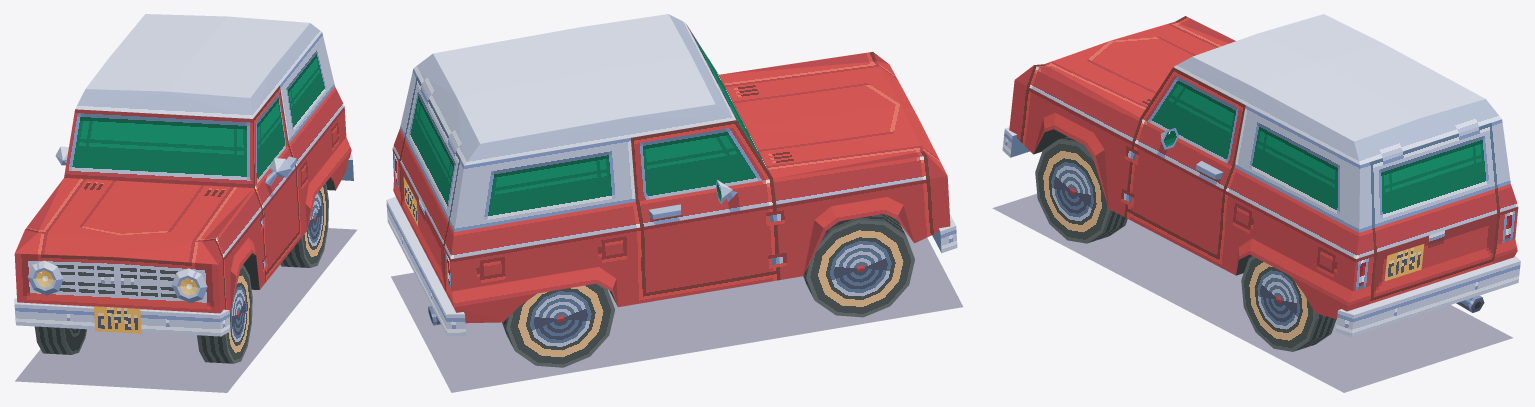
File: Low_Poly_SUV.glb
The picture shows the model from 3 angles, left to right: view 1: azimuth 30°, elevation 25°; view 2: azimuth 150°, elevation 25°; view 3: azimuth 270°, elevation 25°; orthographic projection. The views are drawn at different scales.
Visible parts, largest first — view 1: Bronco_0, Shadow_0; view 2: Bronco_0, Shadow_0; view 3: Bronco_0, Shadow_0.
Part boxes in pixels (x1,y1,x2,y2): Bronco_0: (14, 14, 353, 363); Shadow_0: (15, 228, 357, 392); Bronco_0: (386, 14, 957, 367); Shadow_0: (391, 226, 963, 392); Bronco_0: (1002, 14, 1520, 351); Shadow_0: (992, 193, 1512, 392).
Bounding box in the file's own units: 9.2 × 4.94 × 9.18.
2 materials, 1 textured.
